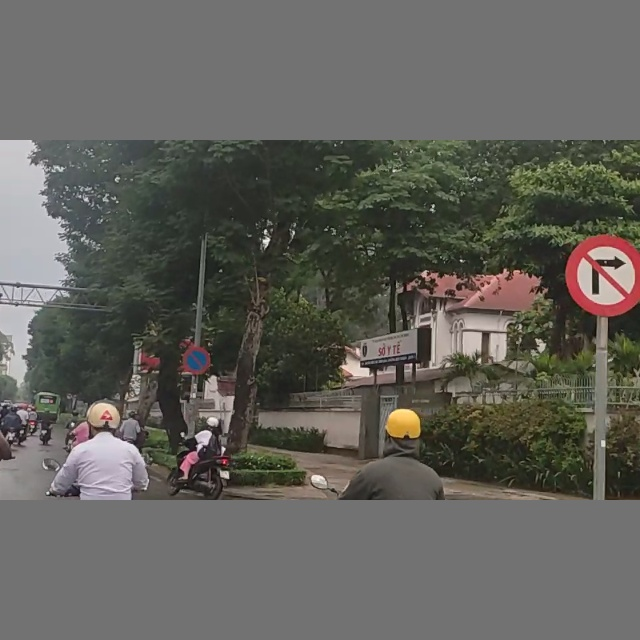P.123b: (565, 235, 640, 317)
P.131a: (182, 347, 210, 375)
